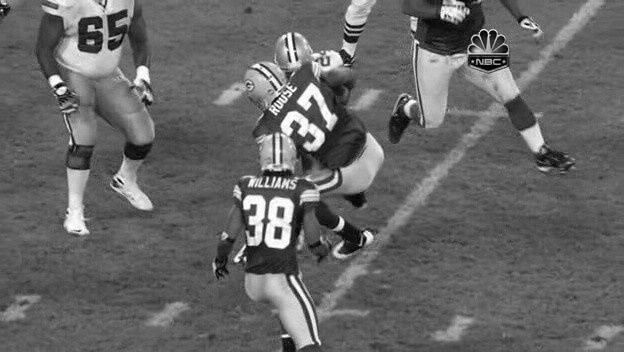person: (280, 37, 313, 79), (279, 37, 312, 79), (281, 37, 314, 79), (280, 36, 313, 78), (280, 38, 313, 80)
target_negative: (395, 86, 533, 287), (363, 194, 604, 287), (198, 56, 316, 233), (404, 95, 465, 295), (519, 198, 605, 248), (248, 254, 323, 288)
